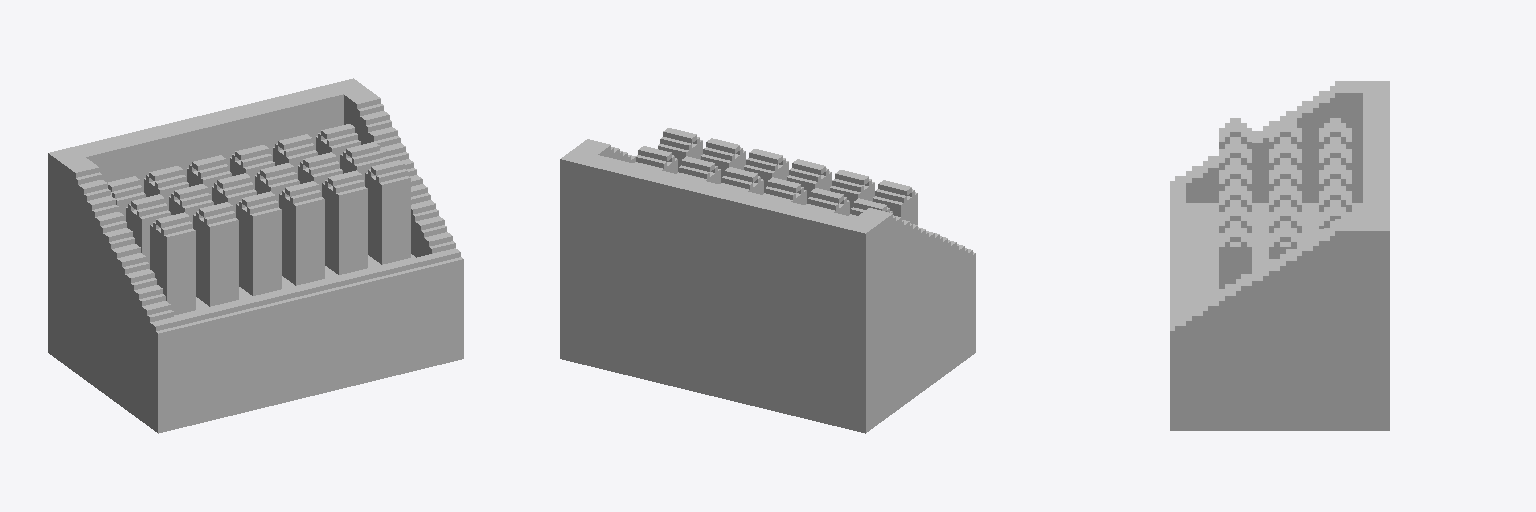
The model's file is milk.obj.
The picture shows the model from 3 angles: view 1: azimuth 30°, elevation 25°; view 2: azimuth 150°, elevation 25°; view 3: azimuth 270°, elevation 25°; orthographic projection.
Parts seen in each view (by area): view 1: object 1; view 2: object 1; view 3: object 1.
Boxes of the visible parts, x1=… form: object 1: x1=48, y1=78, x2=463, y2=433; object 1: x1=560, y1=128, x2=975, y2=433; object 1: x1=1170, y1=81, x2=1389, y2=430.
Bounding box in the file's own units: 6.4 × 4 × 4.